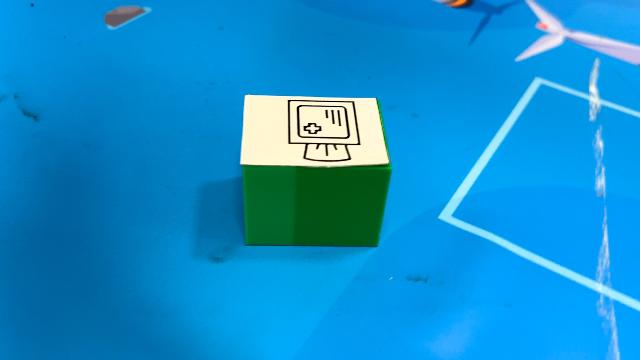napkin: (238, 92, 394, 248)
